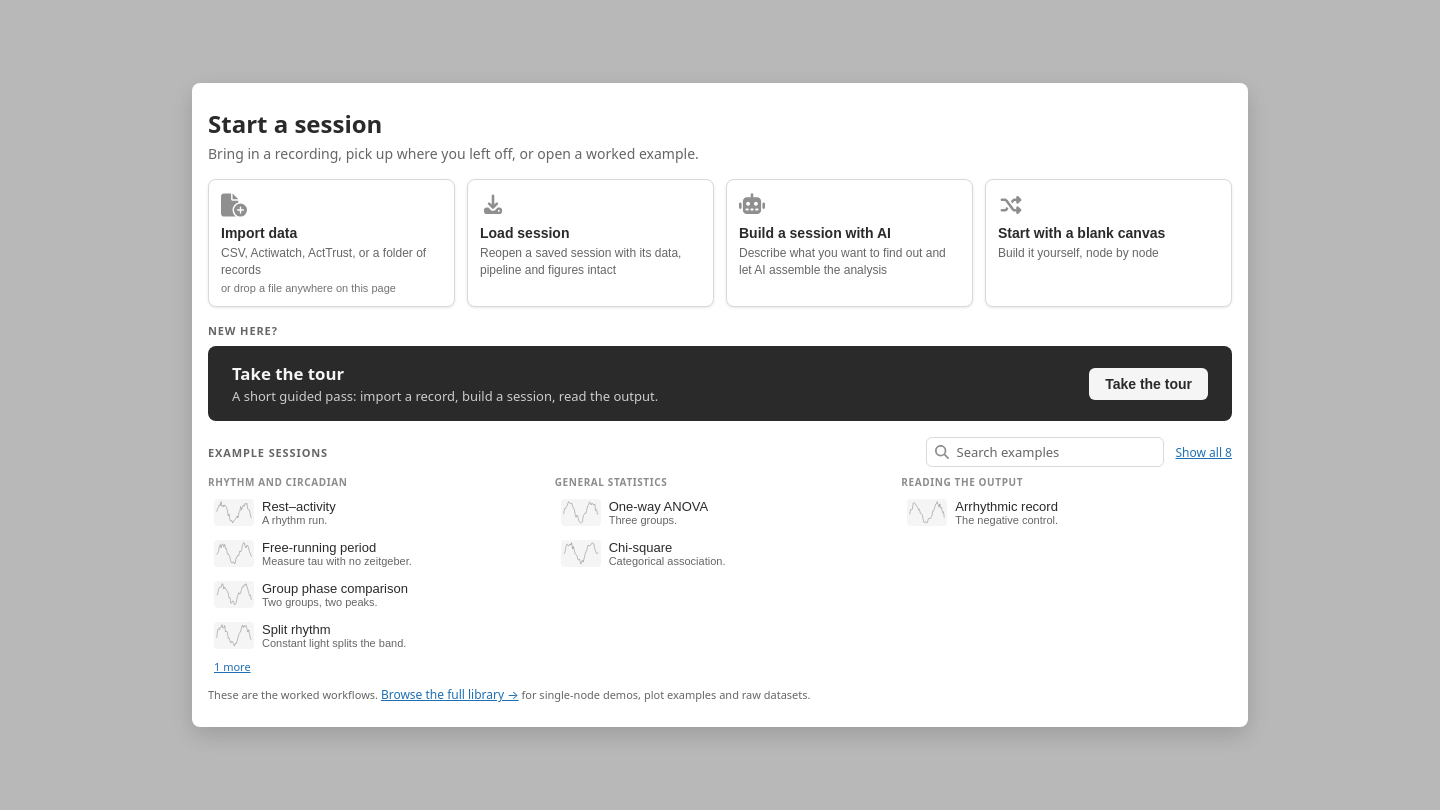
Test: hierarchy › expands EVERY column when any "more" is pressed, not just its own
Expected: the list item with class "example-row" showing "Rest–activity A rhythm run." is shown, [208,493,539,532]
Step 1. Click the button with aria-label "1 more example in rhythm" → [232, 667], box [208,659,257,674]
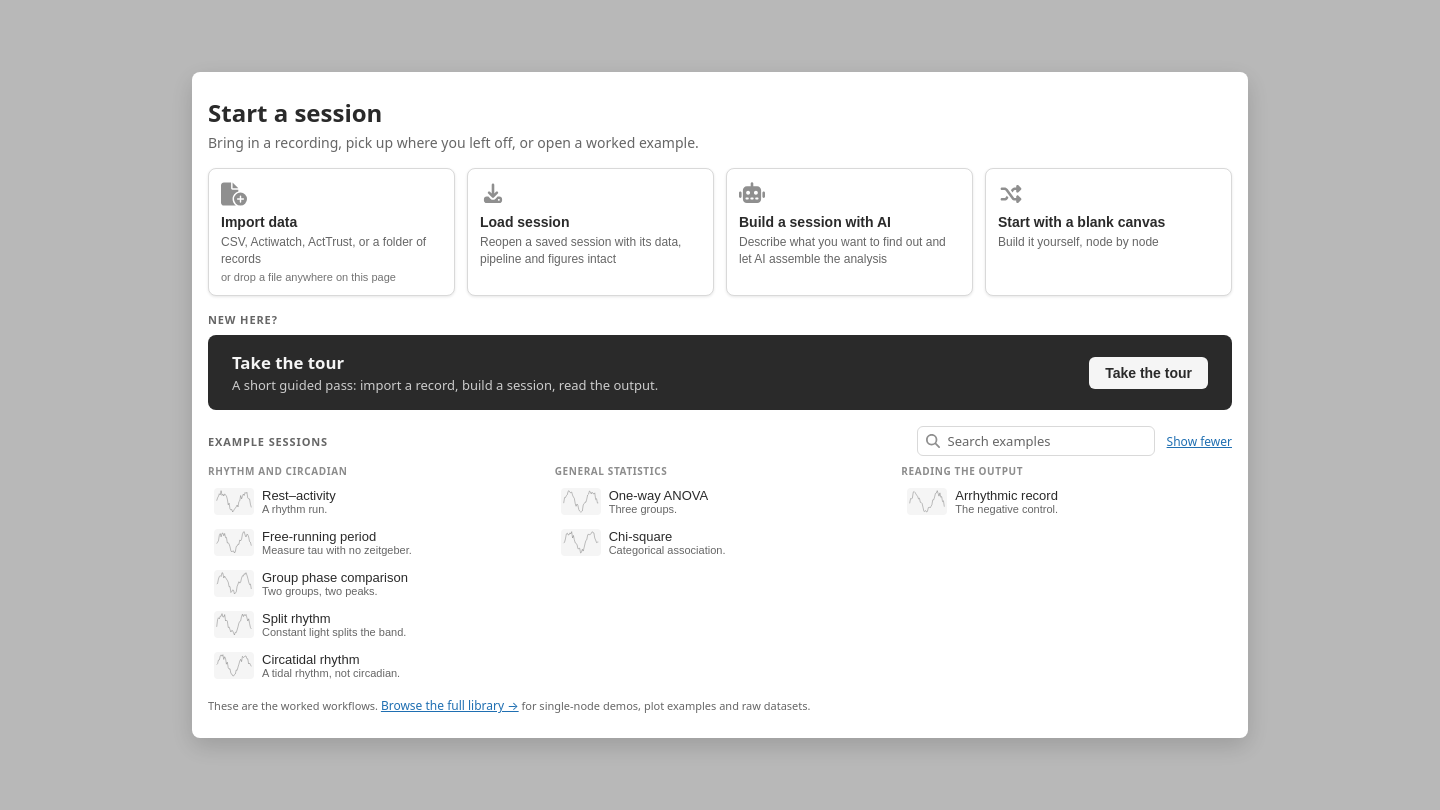
Expected: the text "Circatidal rhythm" is shown, [262,652,360,667]
Expected: the button "Show fewer" is shown, [1167,433,1232,450]
